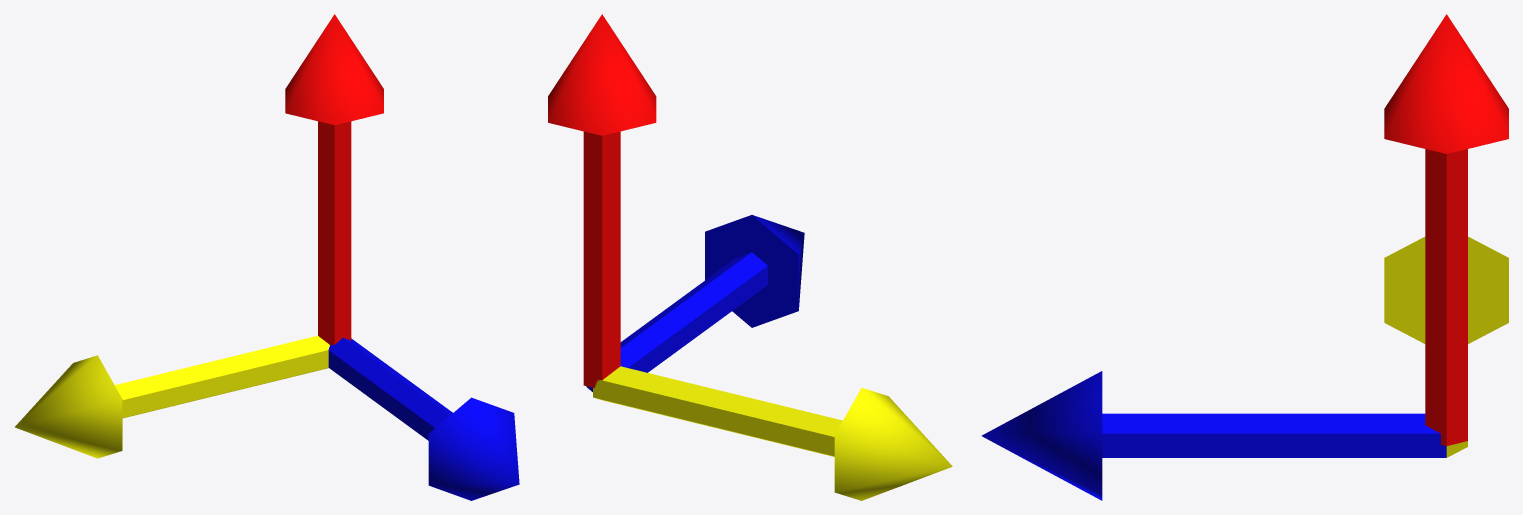
File: yazirusi110_2.obj
The picture shows the model from 3 angles, left to right: view 1: azimuth 30°, elevation 25°; view 2: azimuth 150°, elevation 25°; view 3: azimuth 270°, elevation 25°; orthographic projection. The views are drawn at different scales.
Parts seen in each view (by area): view 1: pCylinder1 group3, pCylinder1 group2, group4 pCylinder2, group3 pCylinder2, group2 pCylinder2, pCylinder1 group4; view 2: pCylinder1 group2, pCylinder1 group3, group3 pCylinder2, group2 pCylinder2, pCylinder1 group4, group4 pCylinder2; view 3: pCylinder1 group4, pCylinder1 group2, group2 pCylinder2, group4 pCylinder2, group3 pCylinder2.
Boxes of the visible parts, box(x1,y1,x2,y2) form: pCylinder1 group3: box(115, 335, 329, 418); pCylinder1 group2: box(318, 121, 351, 344); group4 pCylinder2: box(428, 397, 519, 500); group3 pCylinder2: box(15, 355, 122, 458); group2 pCylinder2: box(285, 14, 383, 125); pCylinder1 group4: box(328, 338, 452, 440); pCylinder1 group2: box(583, 131, 620, 387); pCylinder1 group3: box(593, 366, 842, 456); group3 pCylinder2: box(834, 388, 952, 500); group2 pCylinder2: box(548, 14, 656, 135); pCylinder1 group4: box(586, 252, 767, 391); group4 pCylinder2: box(705, 215, 804, 327); pCylinder1 group4: box(1102, 413, 1446, 457); pCylinder1 group2: box(1425, 149, 1467, 446); group2 pCylinder2: box(1384, 14, 1508, 154); group4 pCylinder2: box(981, 371, 1102, 500); group3 pCylinder2: box(1384, 236, 1508, 343).
Size of the model in its own units: 21.87 by 21.87 by 21.48.
Materials: 2 (2 with a texture image).
